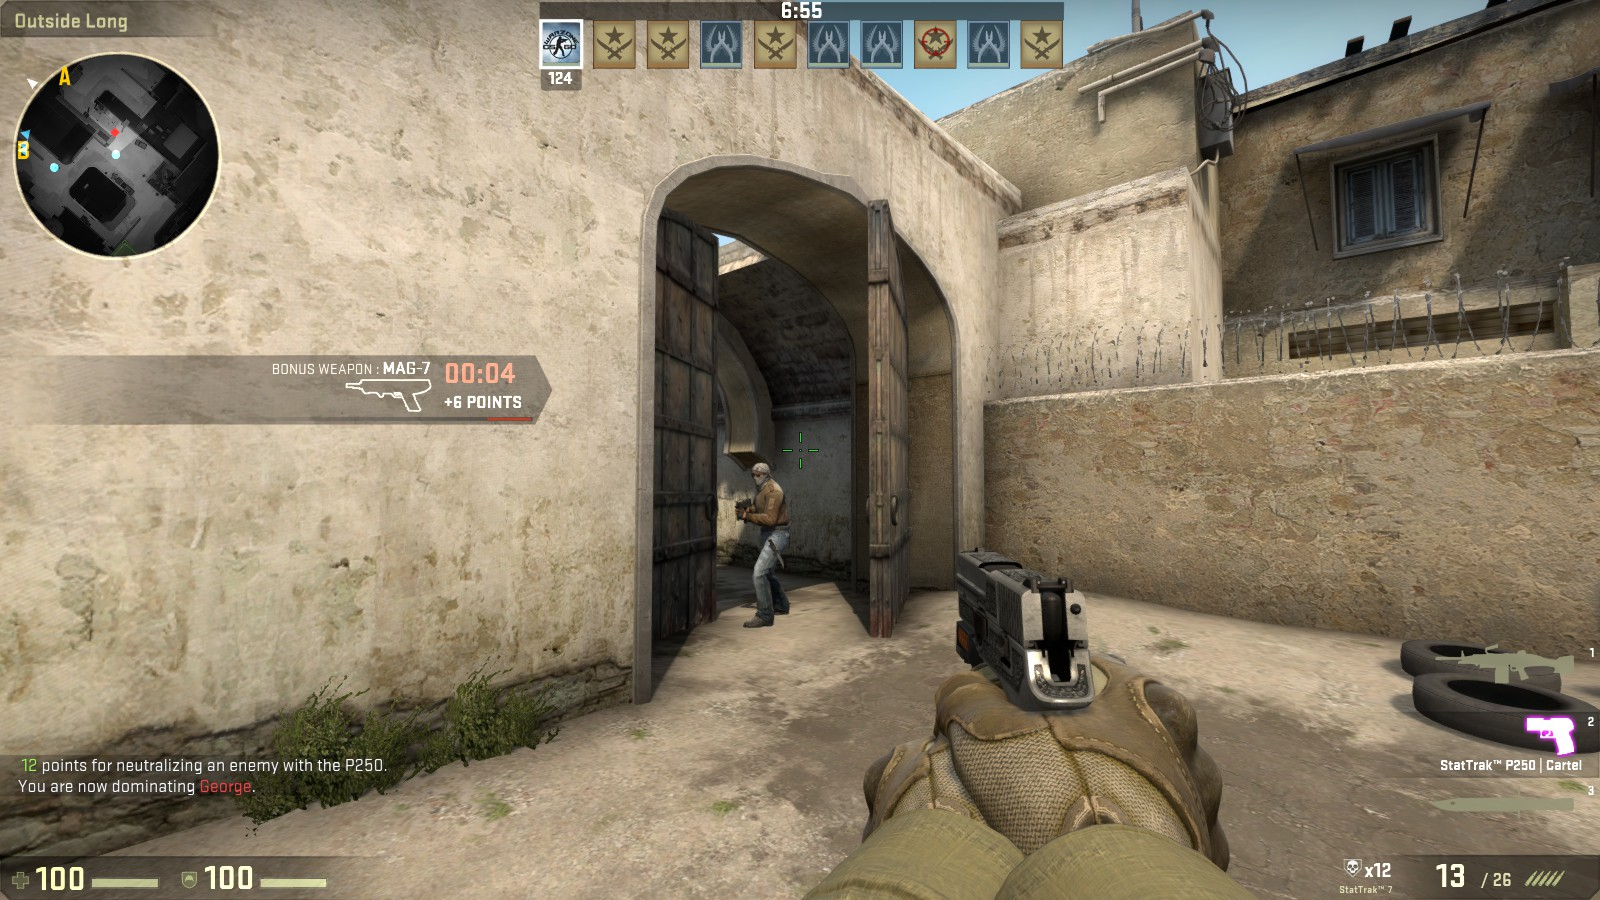t: (735, 462, 792, 627)
th: (748, 462, 773, 488)
